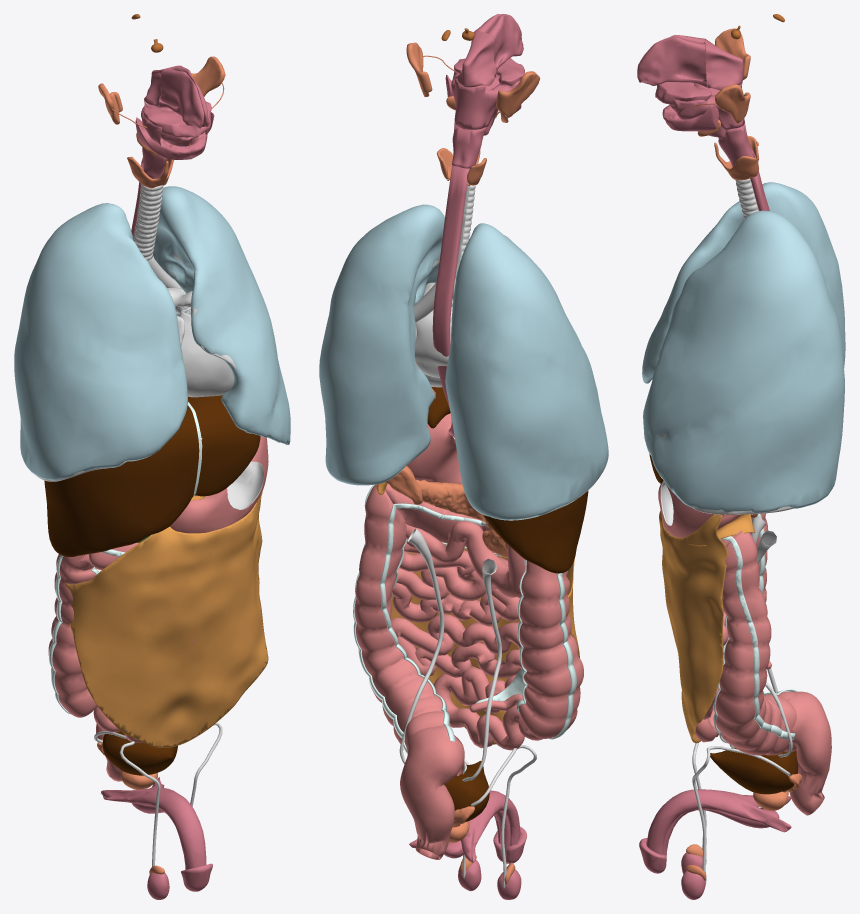
Rendered from organs.glb.
3 views of the same model, side by side, from view 1: azimuth 30°, elevation 25°; view 2: azimuth 150°, elevation 25°; view 3: azimuth 270°, elevation 25° (orthographic). The views are drawn at different scales.
Visible parts, largest first — view 1: Pleura, Greater omentum, Liver, Ascending colon, Corpus cavernosum of penis, Stomach, Right ventricle, Gingiva, Mucosa of nasal cavity, Urinary bladder, Trachea, Mucosa of stomach (+5 smaller); view 2: Pleura, Jejunum, Descending colon, Ascending colon, Sigmoid colon, Liver, Oesophagus, Duodenum, Free taenia, Stomach, Pancreas, Oropharynx (+19 smaller); view 3: Pleura, Greater omentum, Descending colon, Sigmoid colon, Corpus cavernosum of penis, Mucosa of nasal cavity, Urinary bladder, Gingiva, Mesocolic taenia, Nasopharynx, Stomach, Oropharynx (+13 smaller).
Part boxes in pixels (<box>): Pleura: <box>14,186,290,480</box>; Greater omentum: <box>65,493,268,747</box>; Liver: <box>44,395,260,556</box>; Ascending colon: <box>48,554,97,717</box>; Corpus cavernosum of penis: <box>101,777,206,869</box>; Stomach: <box>170,436,268,533</box>; Right ventricle: <box>179,306,234,397</box>; Gingiva: <box>135,101,211,159</box>; Mucosa of nasal cavity: <box>159,65,209,128</box>; Urinary bladder: <box>102,731,177,775</box>; Trachea: <box>133,184,163,260</box>; Mucosa of stomach: <box>227,461,263,509</box>; Pleura: <box>319,204,608,520</box>; Jejunum: <box>391,523,542,750</box>; Descending colon: <box>354,484,464,775</box>; Ascending colon: <box>518,560,583,738</box>; Sigmoid colon: <box>400,727,464,859</box>; Liver: <box>427,387,588,573</box>; Oesophagus: <box>432,165,469,437</box>; Duodenum: <box>449,521,526,597</box>; Free taenia: <box>380,503,527,741</box>; Stomach: <box>407,413,462,483</box>; Pancreas: <box>390,480,507,558</box>; Oropharynx: <box>451,71,520,129</box>; Pleura: <box>642,182,845,513</box>; Greater omentum: <box>659,511,728,743</box>; Descending colon: <box>715,530,796,755</box>; Sigmoid colon: <box>787,691,831,815</box>; Corpus cavernosum of penis: <box>646,789,791,854</box>; Mucosa of nasal cavity: <box>637,35,706,86</box>; Urinary bladder: <box>710,748,798,794</box>; Gingiva: <box>655,82,718,131</box>; Mesocolic taenia: <box>720,536,795,739</box>; Nasopharynx: <box>705,39,743,89</box>; Stomach: <box>658,482,740,537</box>; Oropharynx: <box>672,82,744,130</box>.
Bounding box in the file's own units: 0.2633 × 0.8931 × 0.1926.
